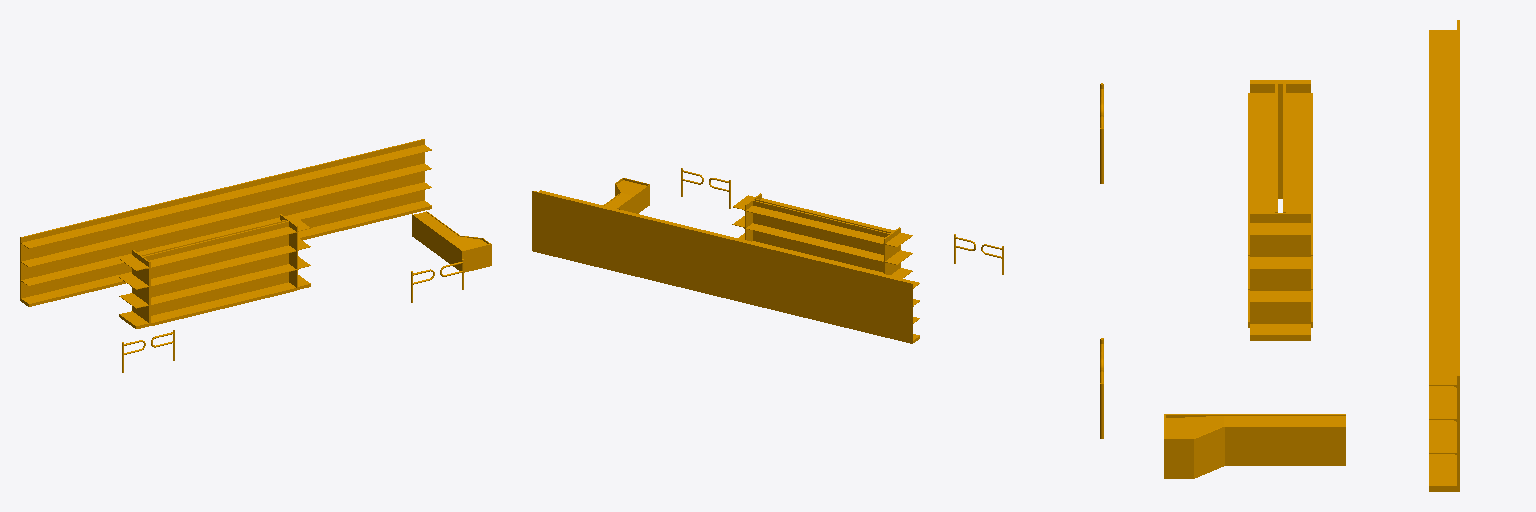
robot.urdf — market_stock:
<robot name="market_stock">
  <link name="market_stock" >

    <inertial>
      <mass value="1.0" />
      <!-- center of mass (com) is defined w.r.t. link local coordinate system -->
      <origin xyz="0 0 0" />
      <inertia  ixx="0.0" ixy="0.0"  ixz="0.0"  iyy="0.0"  iyz="0.0"  izz="0.0" />
    </inertial>
    
    <visual>
      <!-- visual origin is defined w.r.t. link local coordinate system -->
      <origin xyz="0 0 0" rpy="0 0 0" />
      <geometry>
        <mesh filename="package://robocup_worlds/Media/models/market_stock.stl" scale="1 1 1"/>
      </geometry>
    </visual>

    <collision>
      <!-- collision origin is defined w.r.t. link local coordinate system -->
      <origin xyz="0 0 0" rpy="0 0 0" />
      <geometry>
        <mesh filename="package://robocup_worlds/Media/models/market_stock.stl" scale="1 1 1"/>
      </geometry>
    </collision>

  </link>

  <gazebo reference="market_stock">
    <material>Gazebo/LightWood</material>
    <turnGravityOff>true</turnGravityOff>
  </gazebo>

  <gazebo>
    <static>true</static>
  </gazebo>

</robot>

--- What the picture shows (computed from the rendered views, not written in the file) ---
3 views of the same robot in one strip: view 1: azimuth 30°, elevation 25°; view 2: azimuth 150°, elevation 25°; view 3: azimuth 270°, elevation 25° (orthographic).
Model market_stock with 1 links and 0 joints (none), rooted at market_stock, posed all joints at 0.
Links seen in each view (by area): view 1: market_stock; view 2: market_stock; view 3: market_stock.
Boxes of the visible links, x1,y1,x2,y2 form: market_stock: (20, 139, 491, 372); market_stock: (532, 168, 1003, 343); market_stock: (1100, 20, 1459, 491).
Bounding box of the posed robot: 13.88 × 5.93 × 2.1 m (x, y, z).
Meshes: 1 distinct files referenced, 1 mesh visuals loaded (1 binary STL).